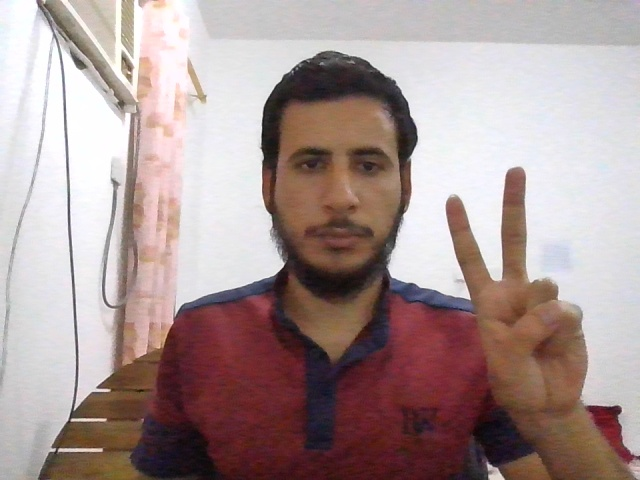Two: (446, 168, 589, 417)
